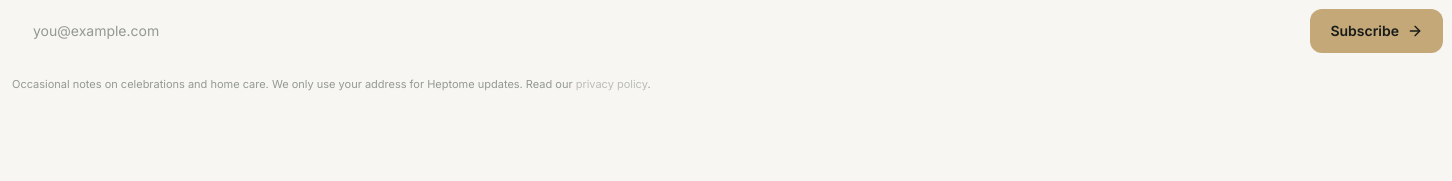
FooterNewsletter › shows a loading state and then the server success copy
Later steps or results of the test are not shown.
Type "reader@example.com" into the field named "Email address". click: (662, 31)
box: left=21, top=9, right=1302, bottom=53
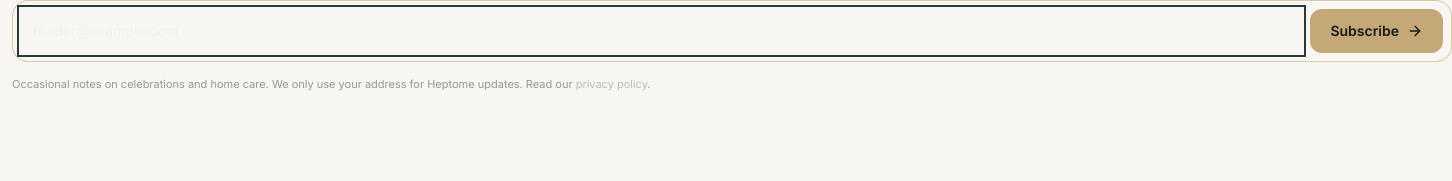
Click the button "Subscribe". click: (1377, 31)
box: left=1310, top=9, right=1443, bottom=53
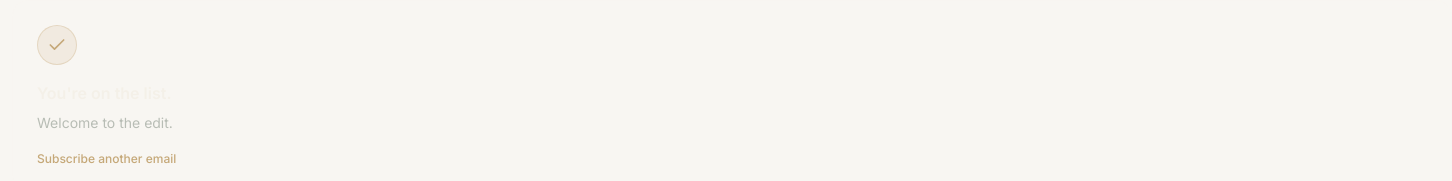
Check: the message shows "Welcome to the edit.", box left=37, top=114, right=173, bottom=131
